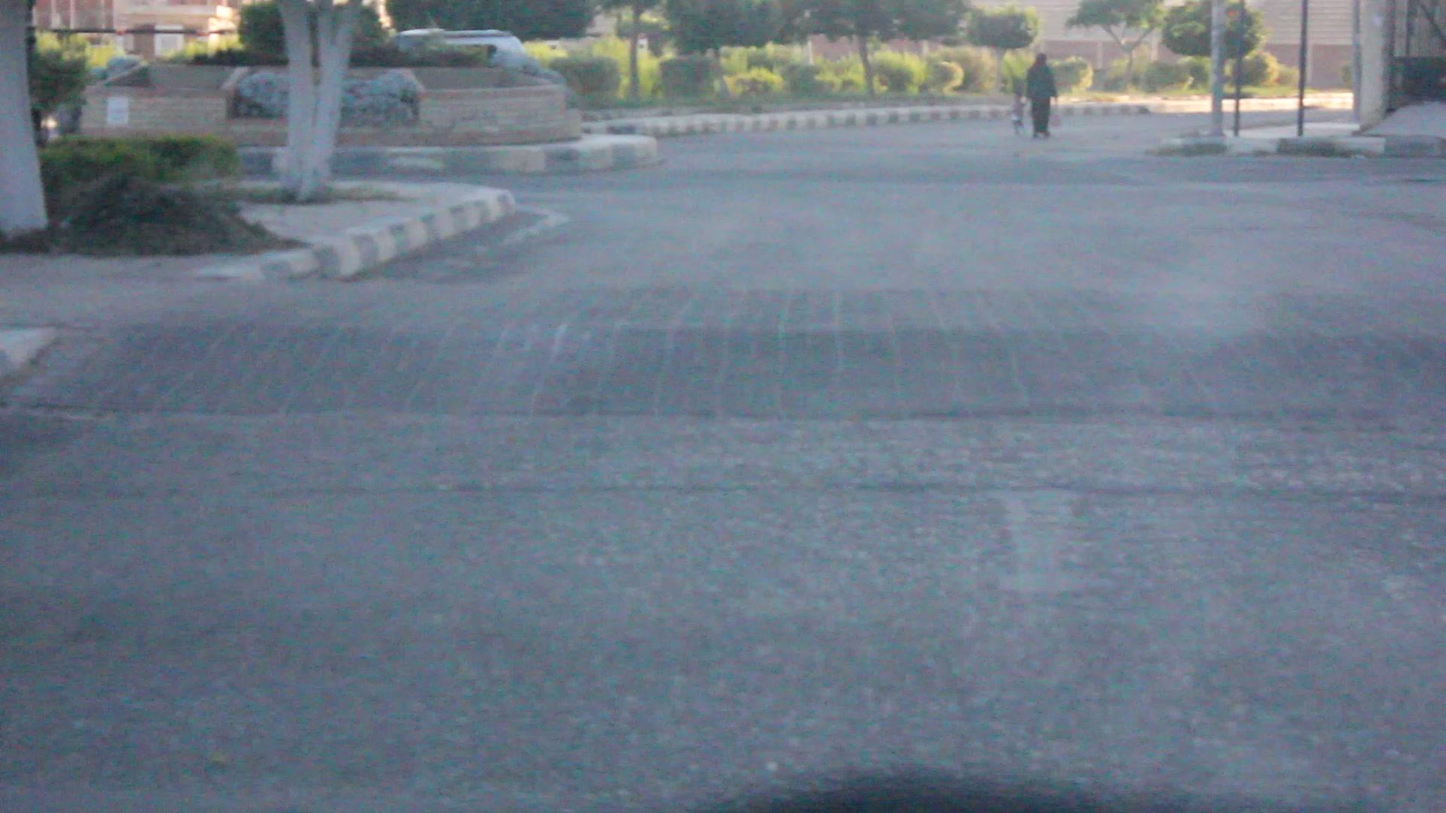Bump: (96, 275, 1446, 414)
